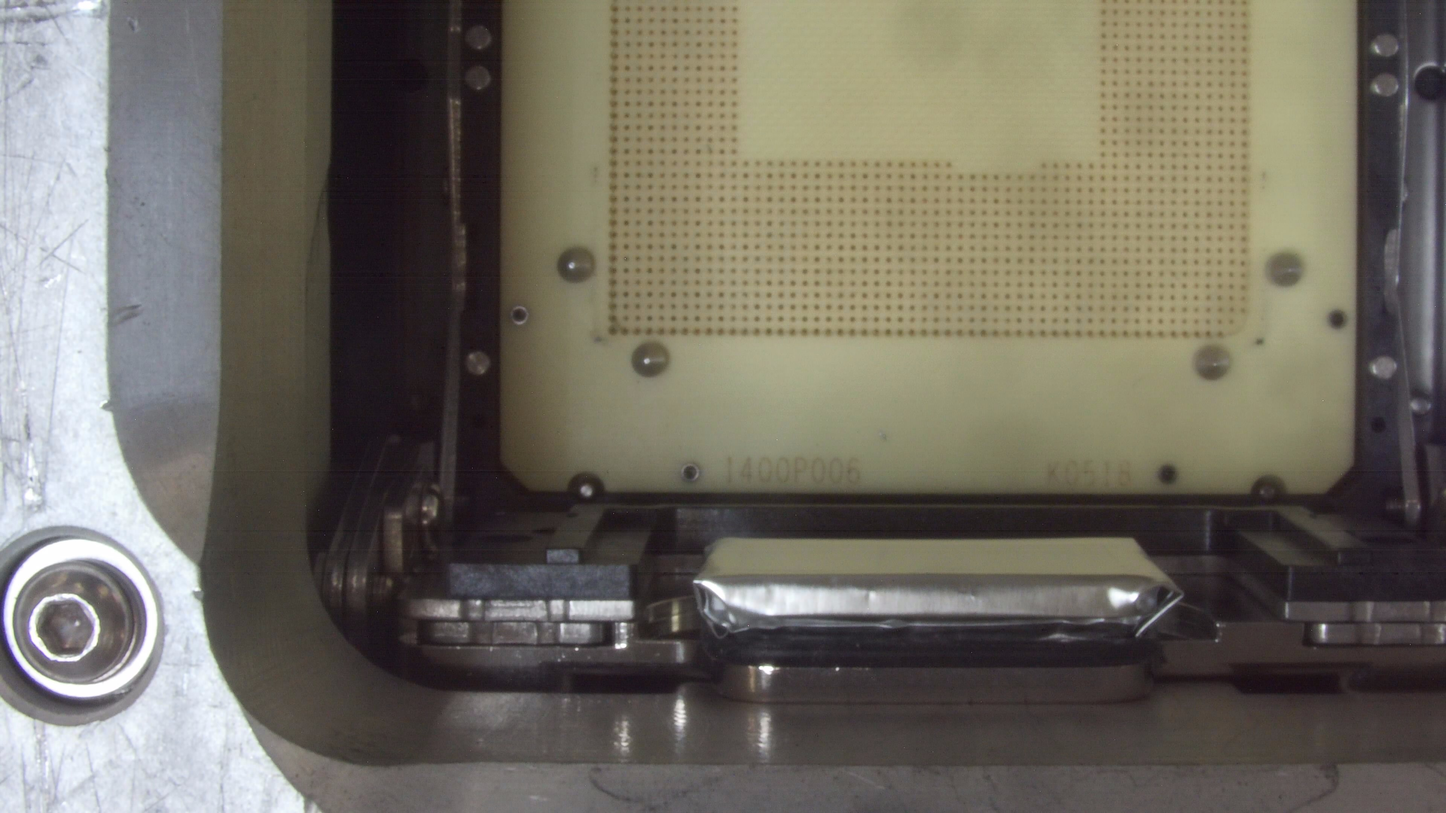normal: (685, 531, 1198, 659)
